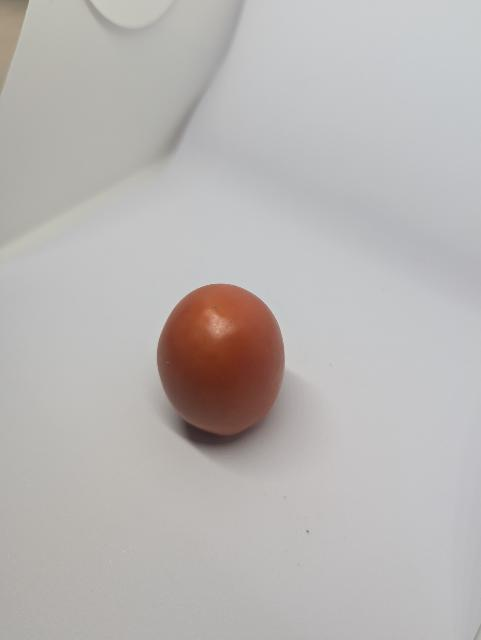red: (138, 269, 299, 440)
